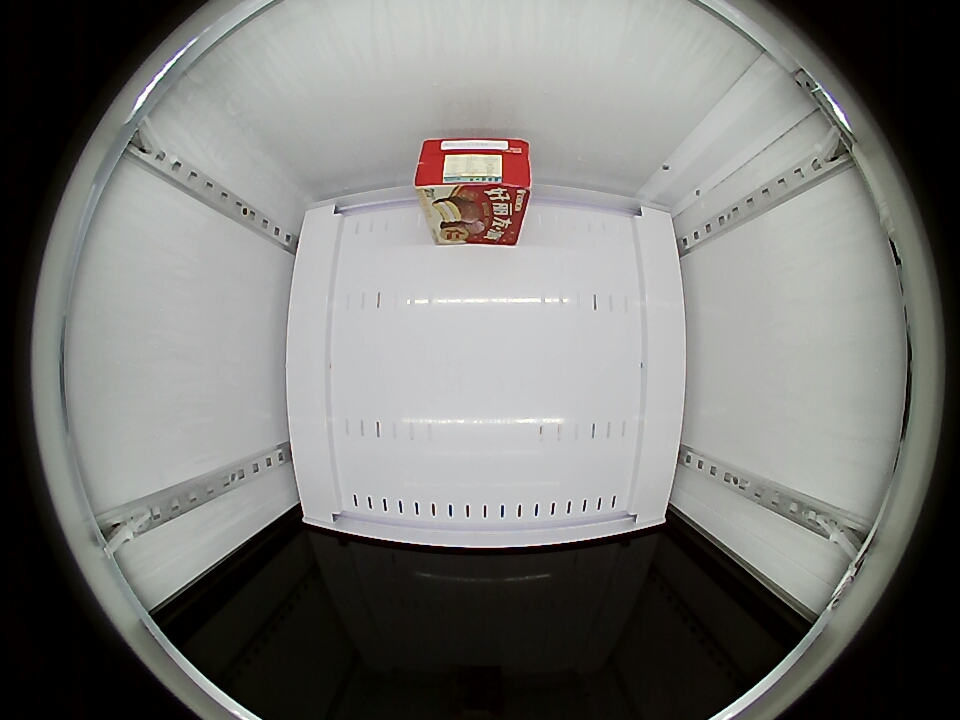haoliyou: (415, 136, 532, 230)
